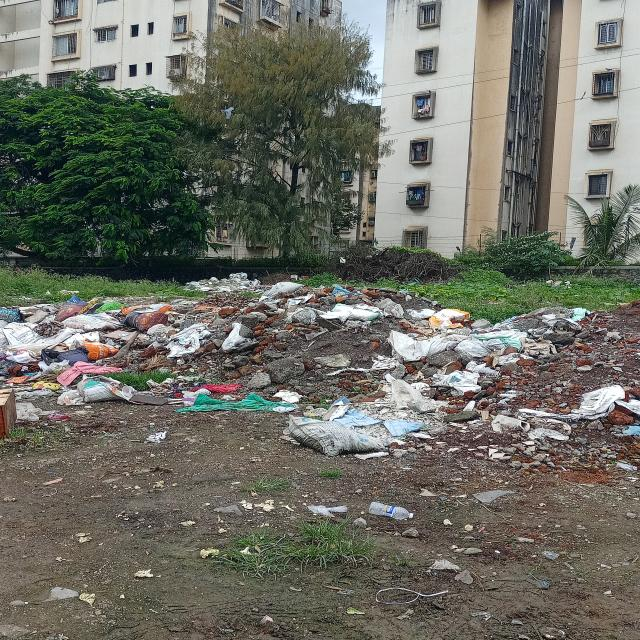garbage: (9, 293, 640, 468)
